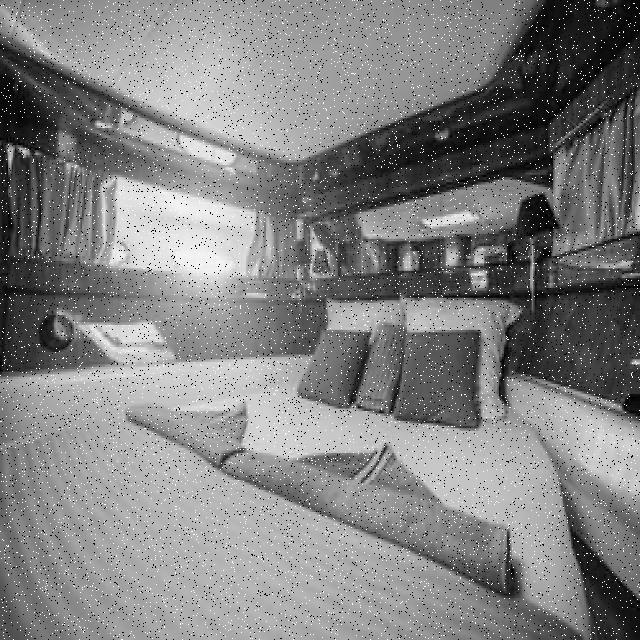bed: (0, 291, 581, 640)
